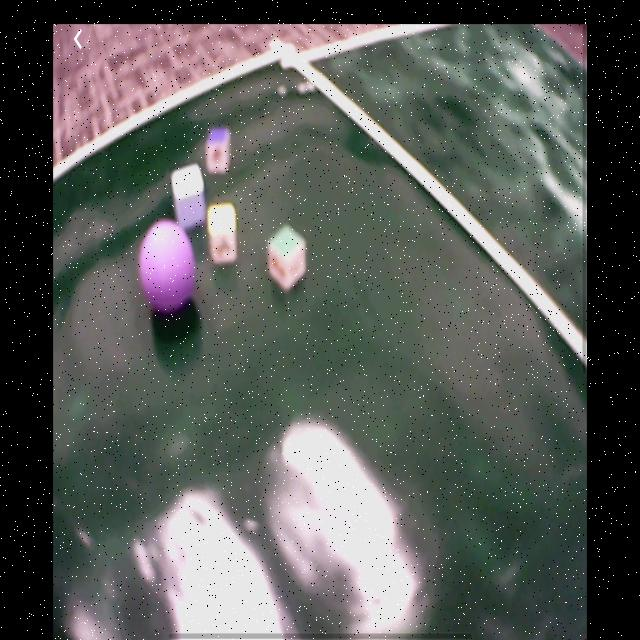ball: (138, 220, 198, 315)
